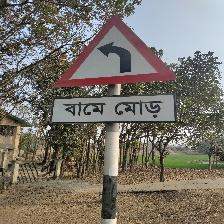Left-Turn: (51, 13, 179, 126)
